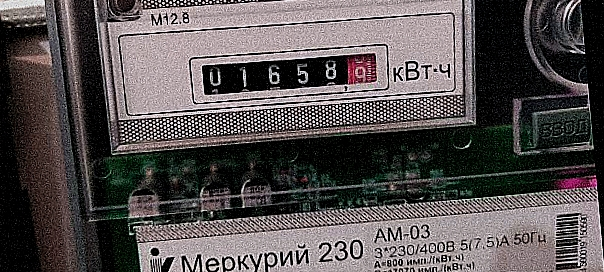0: (207, 64, 222, 87)
1: (237, 65, 249, 87)
5: (294, 60, 310, 84)
6: (265, 62, 281, 85)
8: (322, 57, 338, 80)
9: (350, 63, 366, 85)
screen: (182, 34, 398, 112)
